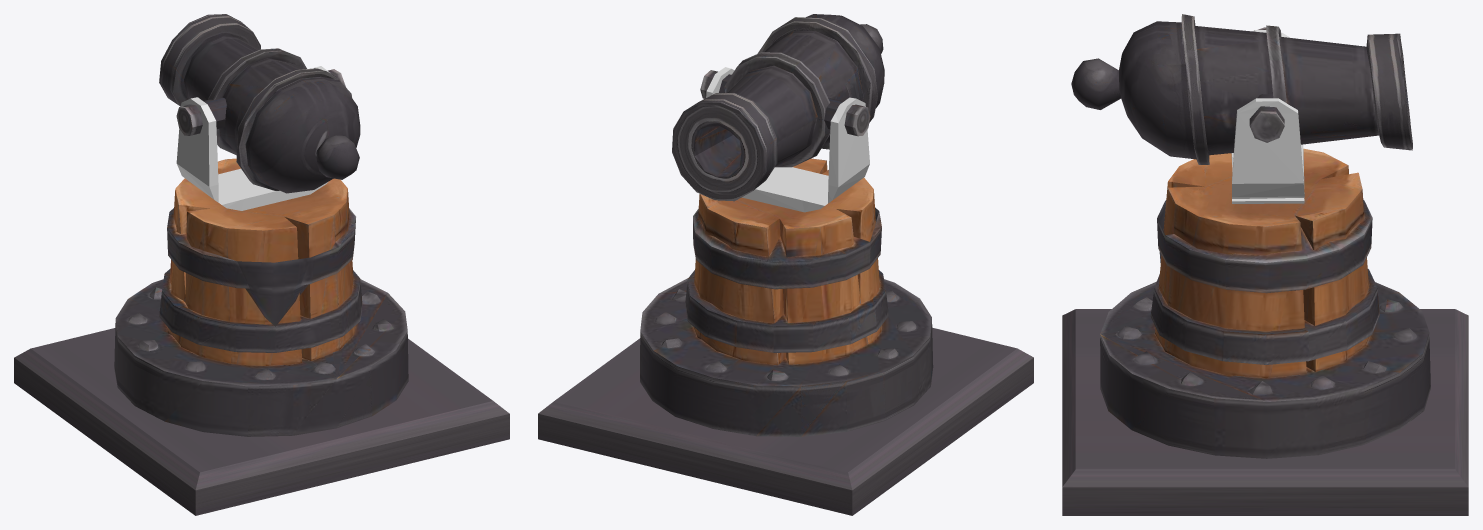
3 renders of one model, left to right at view 1: azimuth 30°, elevation 25°; view 2: azimuth 150°, elevation 25°; view 3: azimuth 270°, elevation 25°, orthographic. The views are drawn at different scales.
Parts seen in each view (by area): view 1: mount, plate, barrel; view 2: mount, plate, barrel; view 3: mount, plate, barrel.
Boxes of the visible parts, left/top/right/bottom form: mount: left=114, top=66, right=408, bottom=436; plate: left=14, top=328, right=509, bottom=515; barrel: left=159, top=14, right=360, bottom=193; mount: left=640, top=67, right=933, bottom=436; plate: left=538, top=327, right=1033, bottom=515; barrel: left=672, top=14, right=884, bottom=201; mount: left=1100, top=30, right=1430, bottom=458; plate: left=1062, top=309, right=1468, bottom=515; barrel: left=1071, top=14, right=1412, bottom=164.
Bounding box in the file's own units: 0.9 × 0.9984 × 0.9.
Materials: 2 (2 with a texture image).
